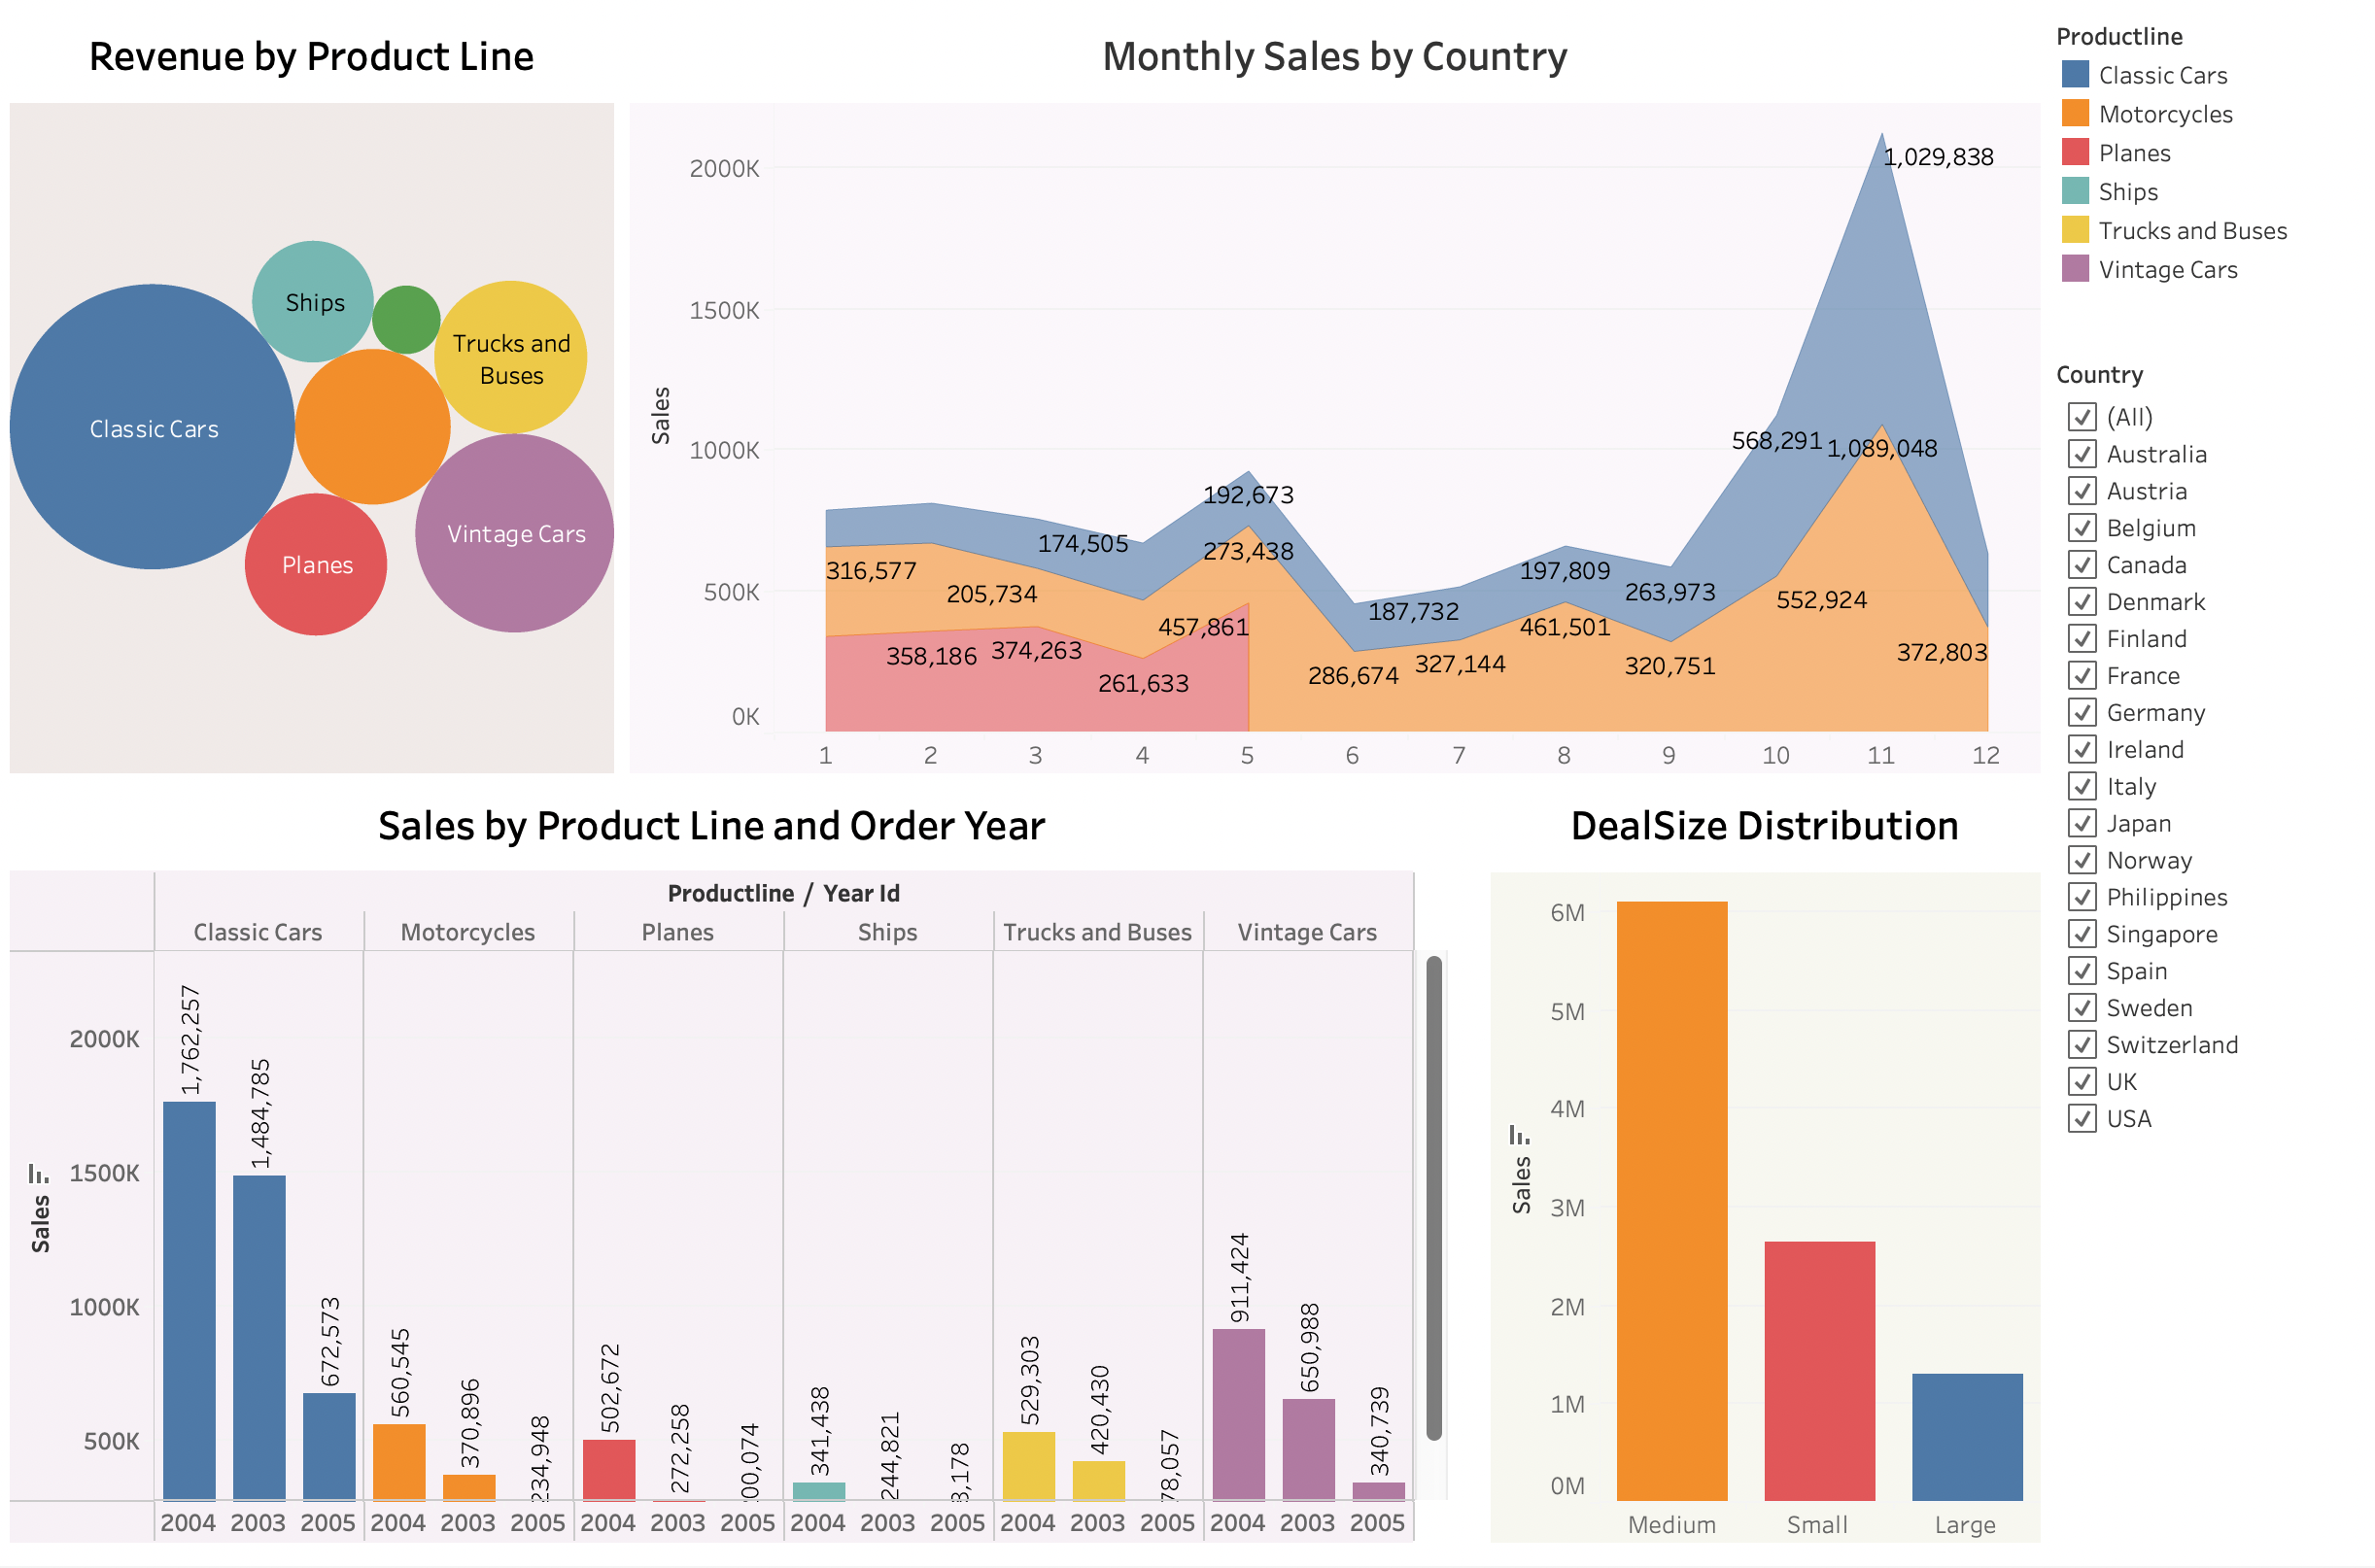

Layout of this report page (visuals, bound fields, positions):
{"tool":"tableau","page":{"name":"Sales Dash 2","canvas":[1000,1000],"units":"permille","ordinal":1},"visuals":[{"type":"worksheet","title":"Revenue by Product Line","mark":"Circle","box":[6.5,9.9,259.6,490.1]},{"type":"worksheet","title":"Monthly Sales by Country","mark":"Area","rows":["SALES"],"cols":["MONTH_ID"],"box":[266.1,9.9,597.2,490.1]},{"type":"legend","title":"Sales by Product Line and Order Year","param":"[federated.01b740l0io0xfi1eci774113f1tr].[none:PRODUCTLINE:nk]","box":[863.3,9.9,130.2,215.3]},{"type":"filter","title":"Monthly Sales by Country","param":"[federated.01b740l0io0xfi1eci774113f1tr].[none:COUNTRY:nk]","box":[863.3,225.2,130.2,511.1]},{"type":"worksheet","title":"Sales by Product Line and Order Year","mark":"Bar","rows":["SALES"],"cols":["PRODUCTLINE","YEAR_ID"],"box":[6.5,500,620,490.1]},{"type":"worksheet","title":"DealSize Distribution","mark":"Automatic","rows":["SALES"],"cols":["DEALSIZE"],"box":[626.5,500,236.8,490.1]}]}

Visuals, with their boxes on the dashboard's canvas, which has no fixed pixel size, in thousandths of its width and height (x1, y1, x2, y2). These are canvas units, not pixel positions in the 2375x1568 screenshot, which may show the page scaled, cropped or inside an application window:
"Revenue by Product Line" worksheet (Circle marks): box=[6, 10, 266, 500]
"Monthly Sales by Country" worksheet (Area marks): box=[266, 10, 863, 500]
"Sales by Product Line and Order Year" legend: box=[863, 10, 994, 225]
"Monthly Sales by Country" filter: box=[863, 225, 994, 736]
"Sales by Product Line and Order Year" worksheet (Bar marks): box=[6, 500, 626, 990]
"DealSize Distribution" worksheet: box=[626, 500, 863, 990]
